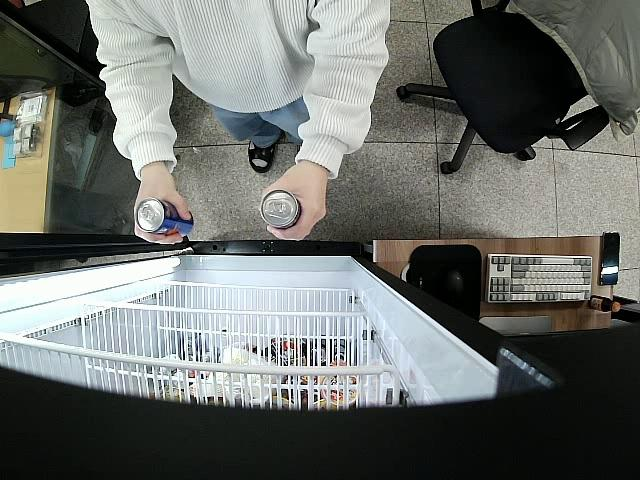00_hand: (259, 165, 327, 240), (133, 179, 191, 245)
16_hot6: (136, 197, 194, 238), (259, 189, 302, 230)
